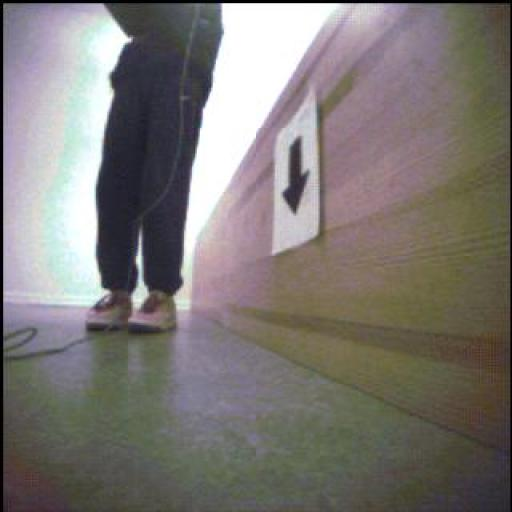arrow: (283, 139, 310, 216)
